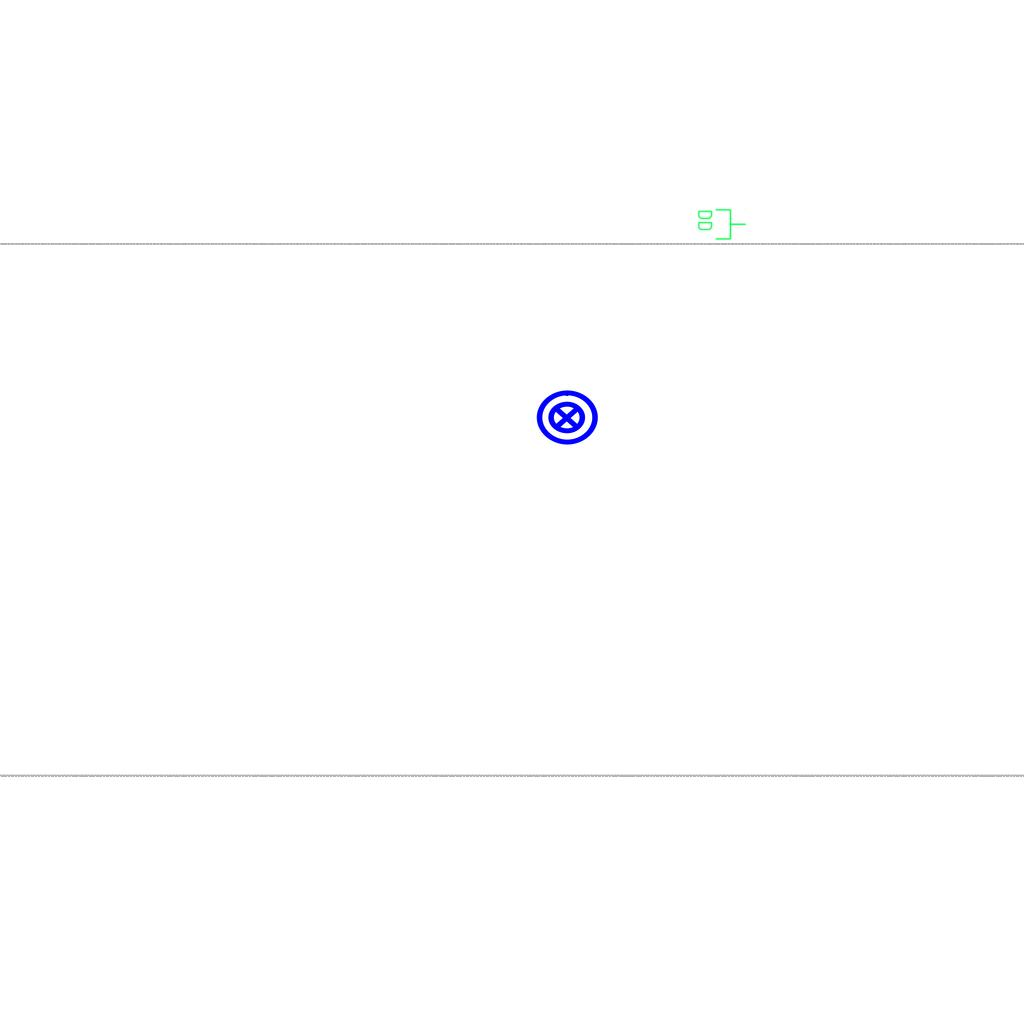Datenanschluss_zweifach: (696, 207, 747, 241)
Taster_beleuchtet: (534, 385, 600, 451)
